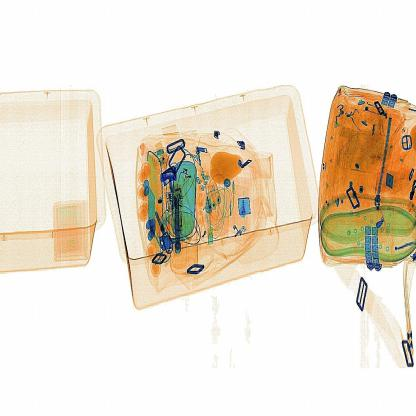knife: (155, 158, 181, 188)
